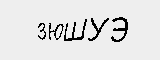З: (34, 22, 47, 41)
У: (88, 15, 110, 43)
Ш: (62, 17, 88, 42)
Э: (109, 15, 132, 43)
Ю: (45, 20, 65, 44)
